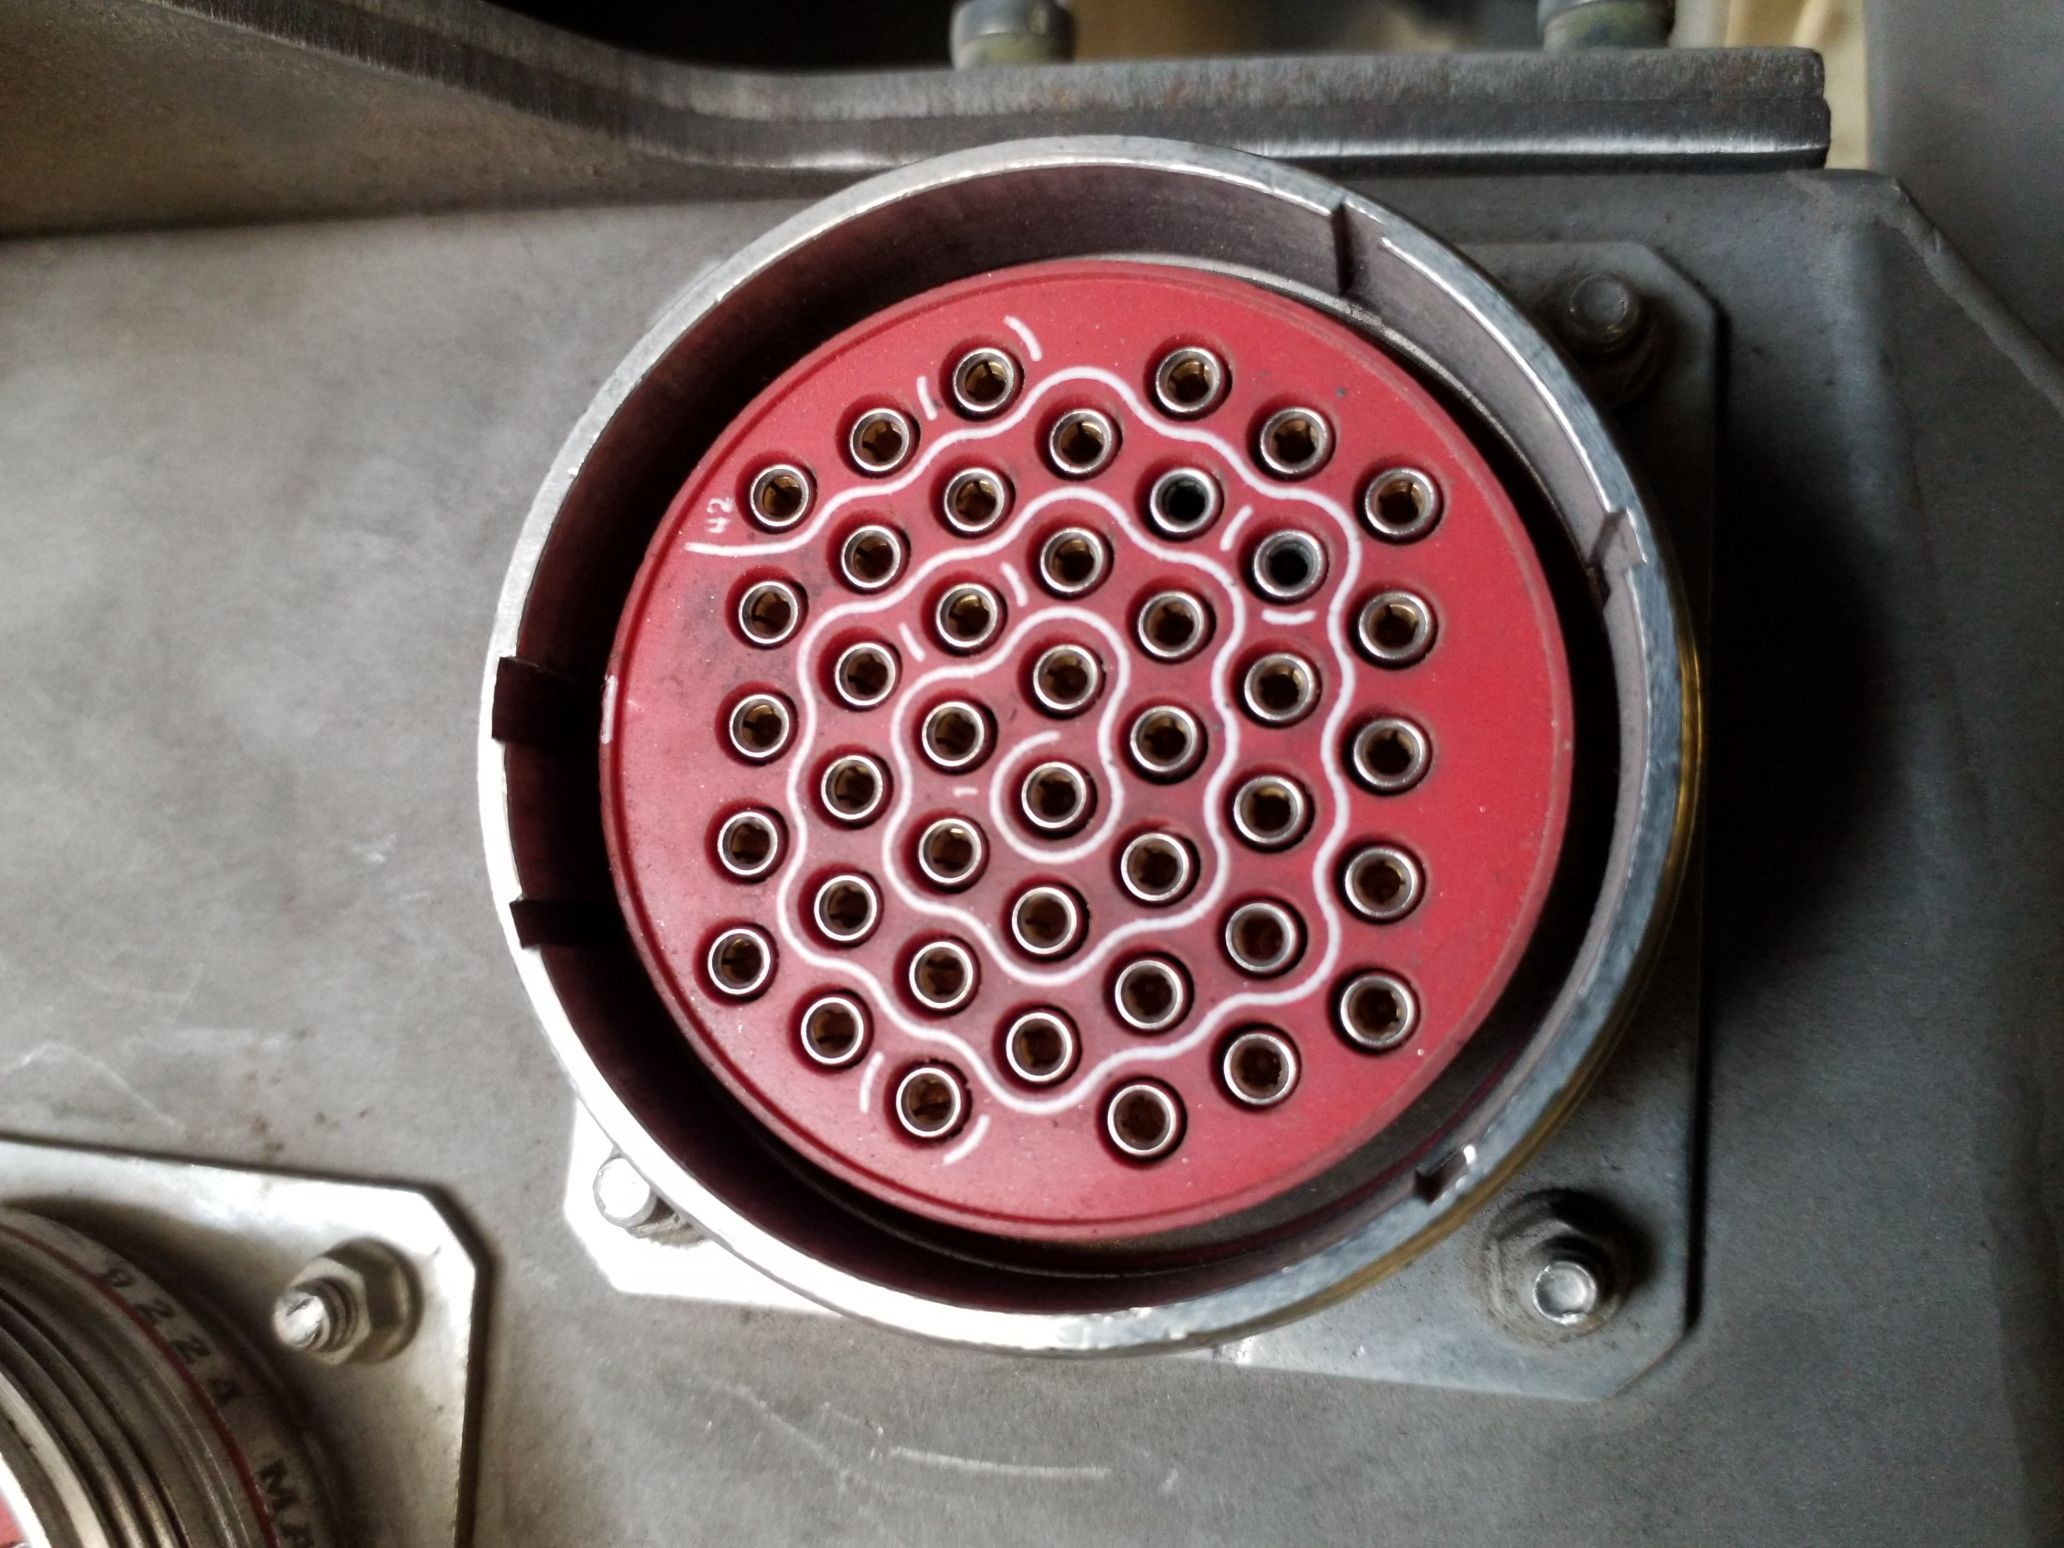inletround: (476, 114, 1729, 1384)
